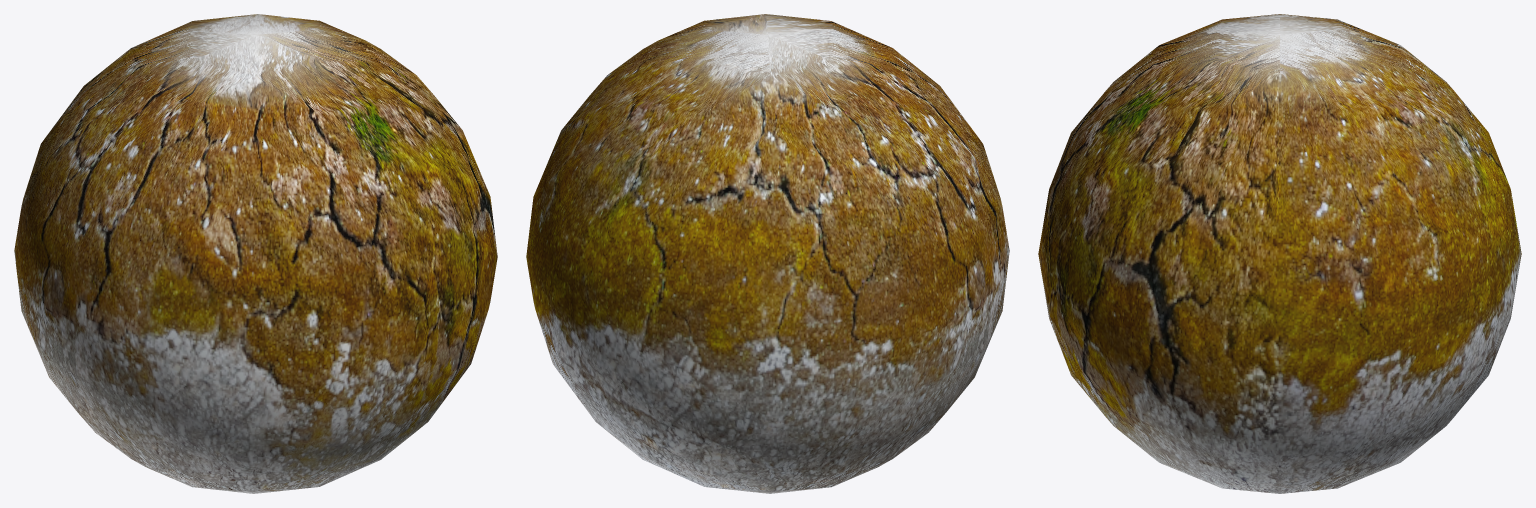
The model's file is moon_d_f.fbx.
3 renders of one model, left to right at view 1: azimuth 30°, elevation 25°; view 2: azimuth 150°, elevation 25°; view 3: azimuth 270°, elevation 25°, orthographic.
Parts seen in each view (by area): view 1: moon_d_f; view 2: moon_d_f; view 3: moon_d_f.
Boxes of the visible parts, x1,y1,x2,y2 form: moon_d_f: (14, 14, 497, 493); moon_d_f: (526, 14, 1009, 493); moon_d_f: (1038, 14, 1521, 493).
Size of the model in its own units: 80 by 80 by 80.
Materials: 1 (1 with a texture image).
